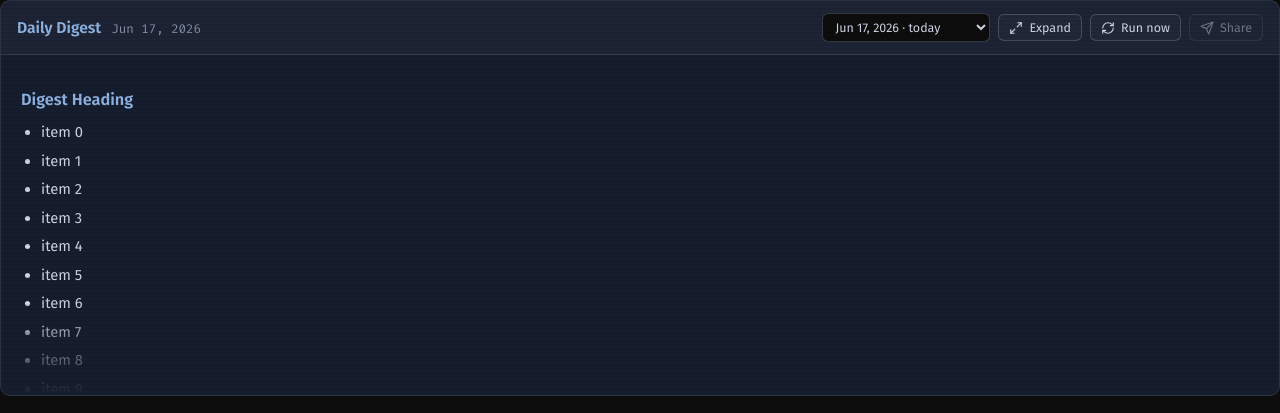
Test: ReportFeed › selecting an older report from history loads it
Expected: the list item "item 0" is shown, x1=41 y1=123 x2=83 y2=141
Select "Jun 16, 2026 · yesterday" in the dropdown named "history". click: point(906, 28)
box: x1=822 y1=13 x2=990 y2=42
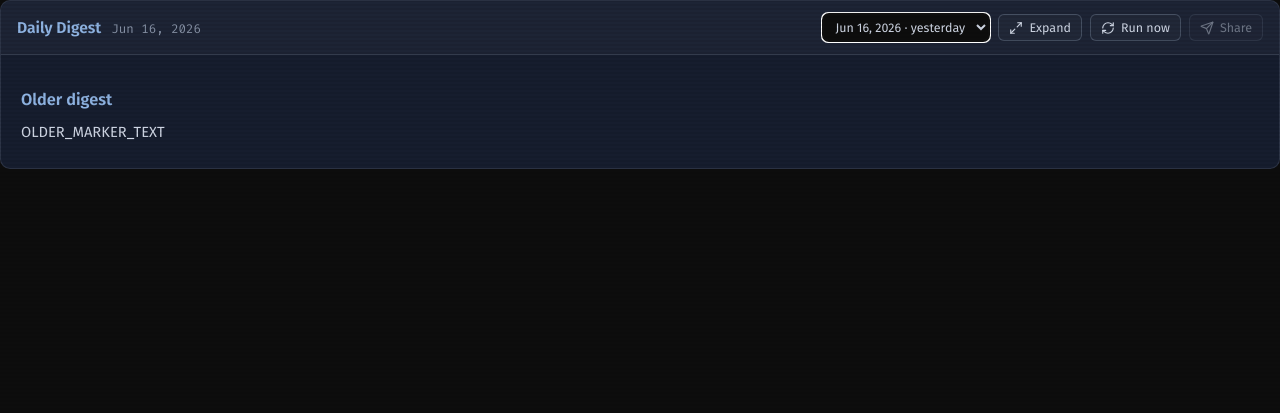
Now the text "OLDER_MARKER_TEXT" is shown, box x1=21 y1=123 x2=165 y2=141
